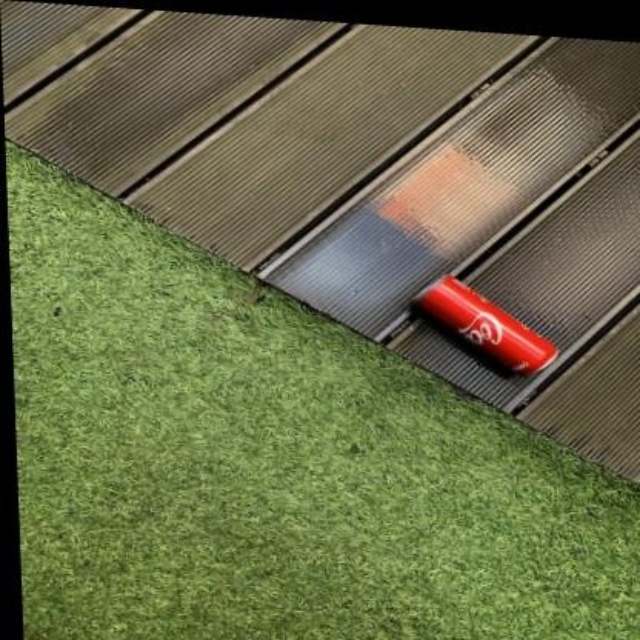trash: (414, 275, 557, 374)
